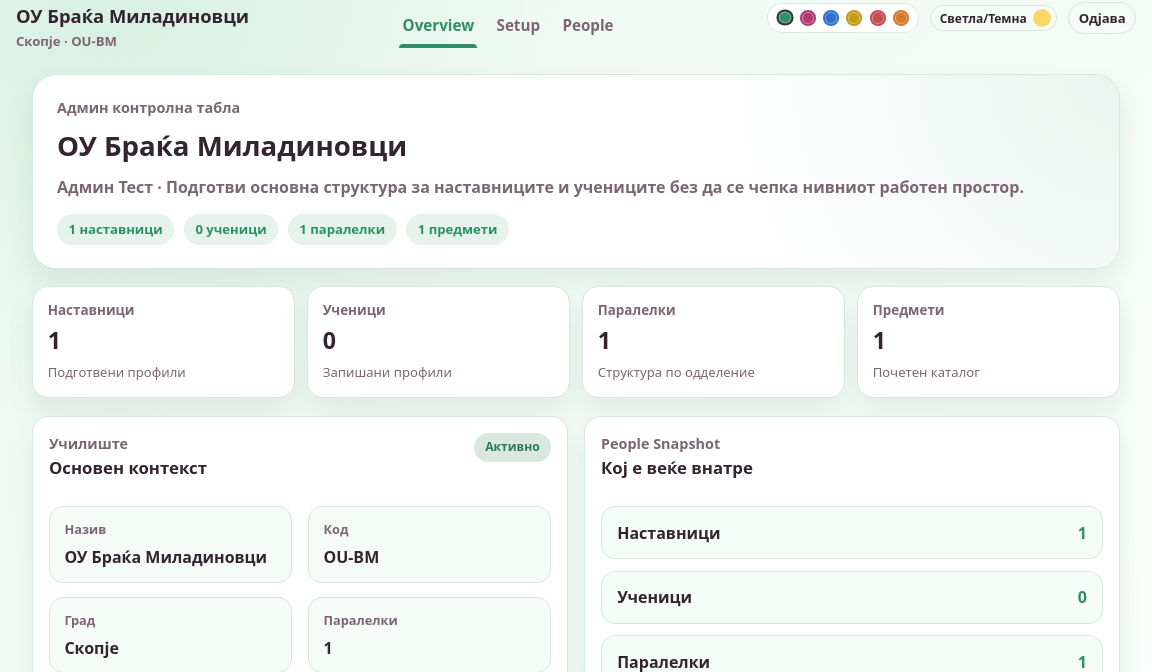
Test: admin can open the schedule editor from the setup create menu
Step 1. Click the button "Setup" → x=518, y=26, box [493, 4, 543, 48]
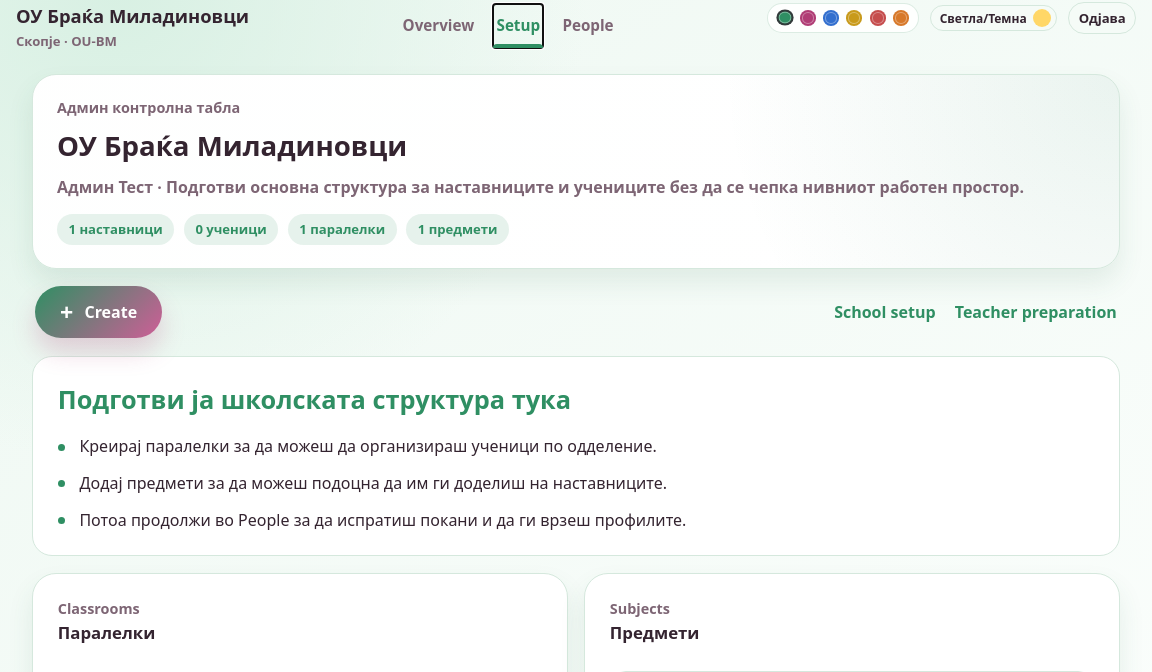
Step 2. Click the button "+ Create" → x=99, y=312, box [35, 286, 162, 338]
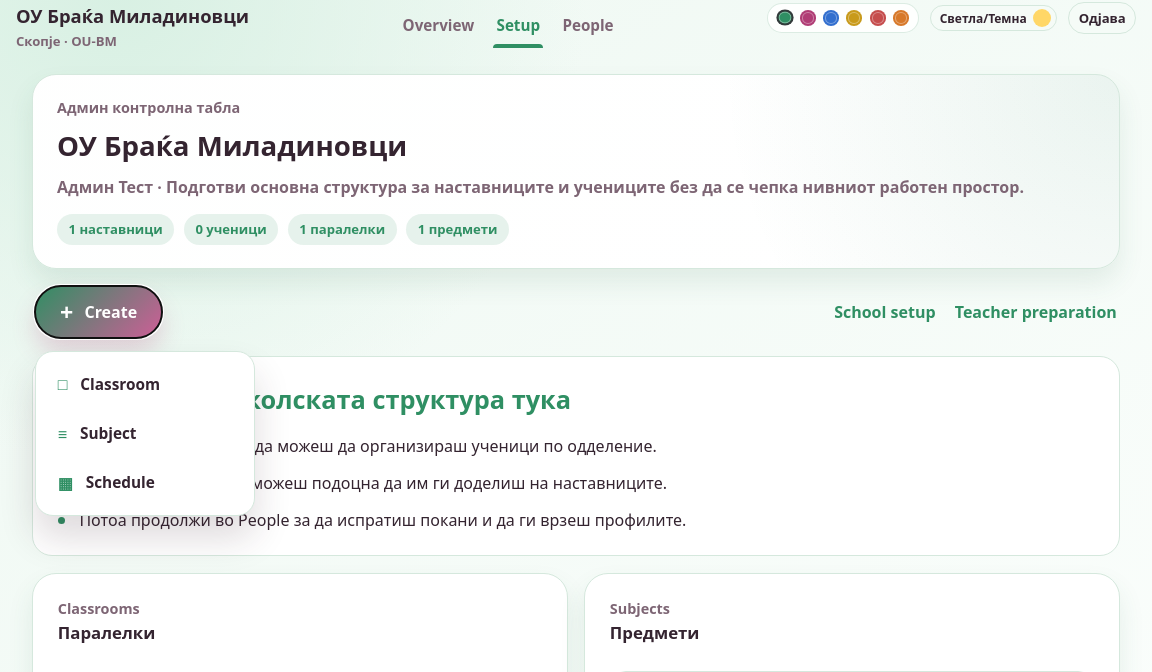
Step 3. Click the button "▦ Schedule" → x=145, y=483, box [45, 459, 245, 506]
(page scrolled)
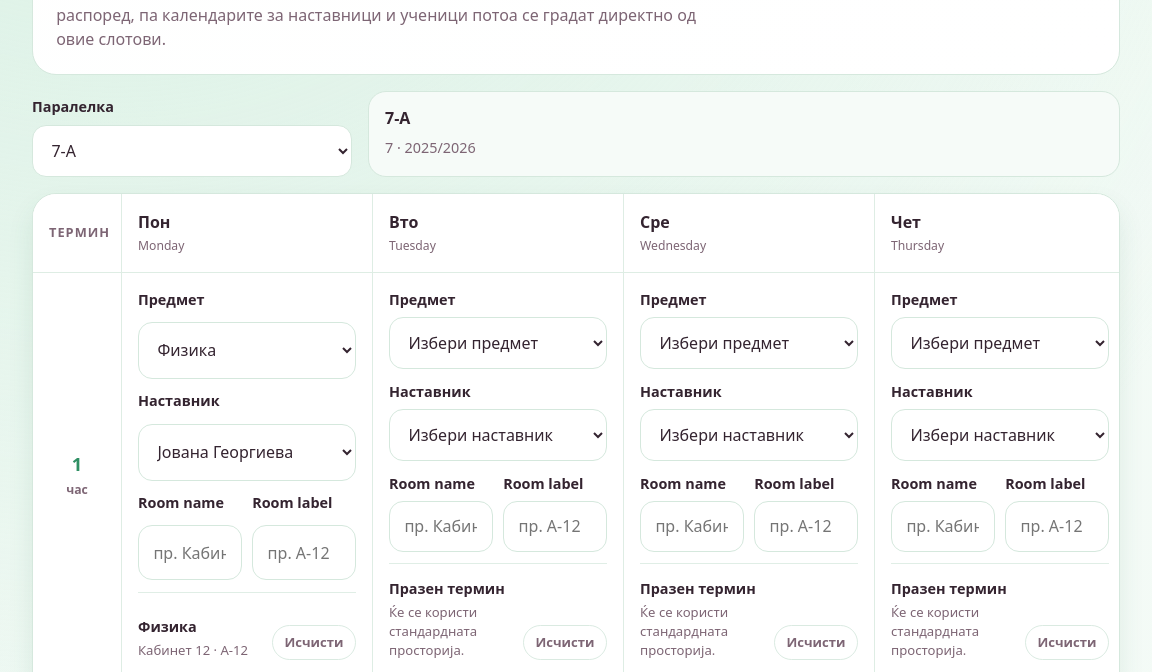
Expected: the 1st dropdown showing "Физика" is shown, [138, 322, 356, 379]
